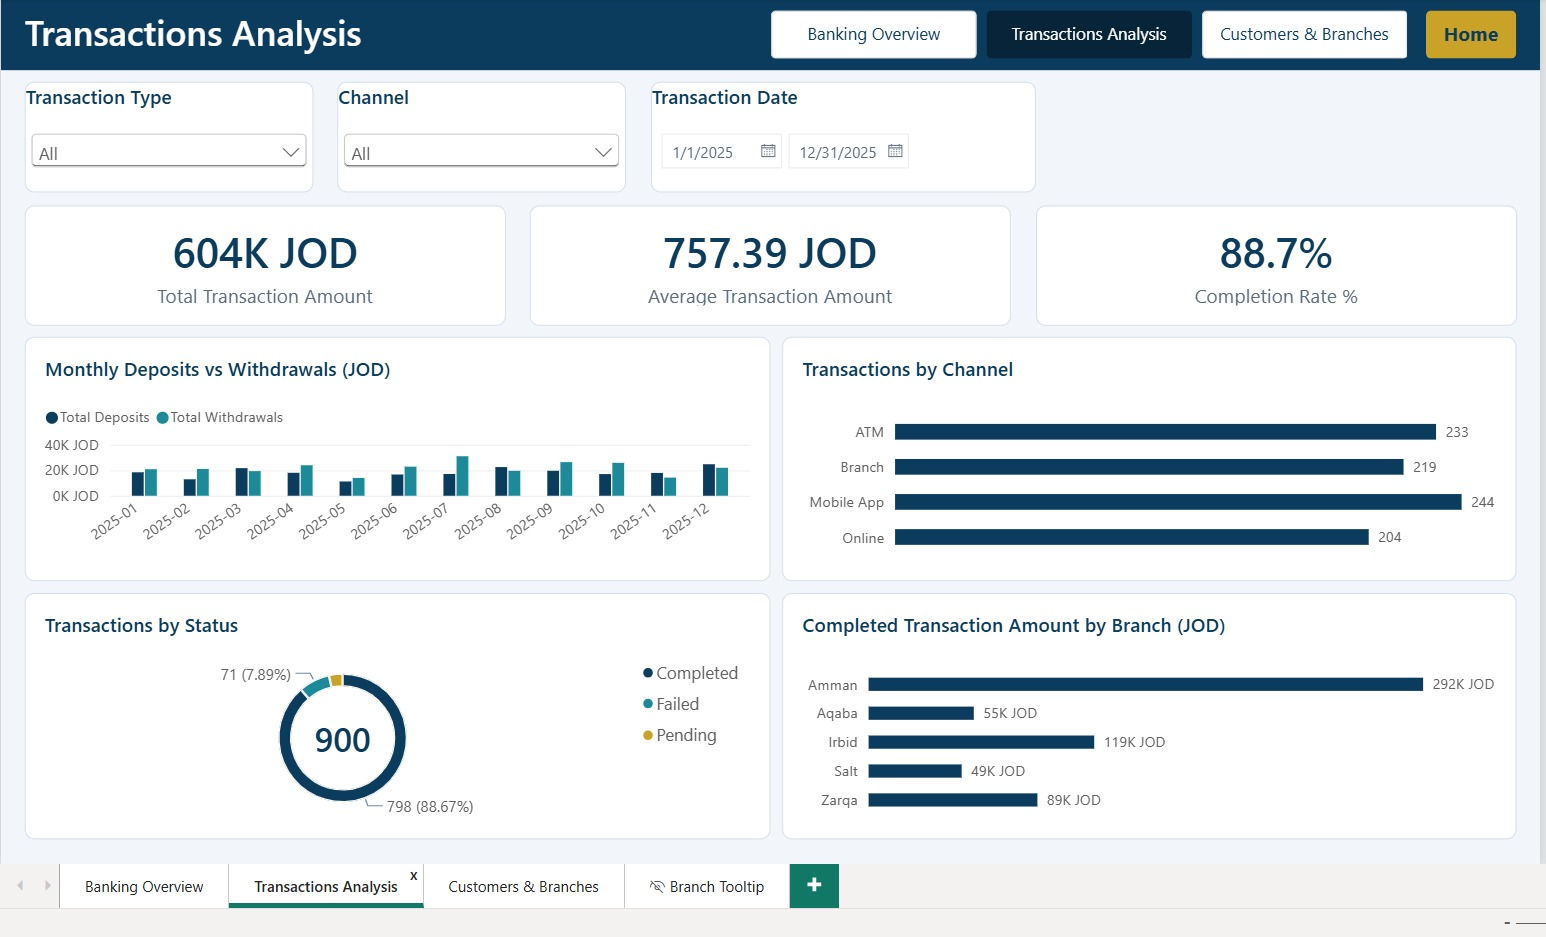

The dashboard page shown, as its layout file describes it:
{"tool":"powerbi","page":{"name":"Transactions Analysis","canvas":[1280,720],"ordinal":1},"visuals":[{"type":"textbox","box":[0,0,1280,60],"z":0},{"type":"textbox","box":[20,8,610,44],"z":1},{"type":"pageNavigator","box":[640,10,530,40],"z":2},{"type":"actionButton","box":[1185,10,75,40],"z":3},{"type":"slicer","title":"Transaction Type","fields":{"Values":["Transactions.TransactionType"]},"box":[20,70,240,92],"z":4},{"type":"slicer","title":"Channel","fields":{"Values":["Transactions.Channel"]},"box":[280,70,240,92],"z":5},{"type":"slicer","title":"Transaction Date","fields":{"Values":["Transactions.TransactionDate"]},"box":[540,70,320,92],"z":6},{"type":"card","fields":{"Values":["Transactions.Total Transaction Amount"]},"box":[20,172,400,100],"z":7},{"type":"card","fields":{"Values":["Transactions.Average Transaction Amount"]},"box":[440,172,400,100],"z":8},{"type":"card","fields":{"Values":["Transactions.Completion Rate %"]},"box":[860,172,400,100],"z":9},{"type":"clusteredColumnChart","title":"Monthly Deposits vs Withdrawals (JOD)","fields":{"Category":["Transactions.Transaction Month"],"Y":["Transactions.Total Deposits","Transactions.Total Withdrawals"]},"box":[20,282,620,203],"z":10},{"type":"barChart","title":"Transactions by Channel","fields":{"Category":["Transactions.Channel"],"Y":["Transactions.Total Transactions"]},"box":[650,282,610,203],"z":11},{"type":"donutChart","title":"Transactions by Status","fields":{"Category":["Transactions.Status"],"Y":["Transactions.Total Transactions"]},"box":[20,495,620,205],"z":12},{"type":"barChart","title":"Completed Transaction Amount by Branch (JOD)","fields":{"Category":["Transactions.Branch"],"Y":["Transactions.Total Transaction Amount"]},"box":[650,495,610,205],"z":13}]}

Visuals, with their boxes on the page's 1280x720 design canvas (x1, y1, x2, y2). These are canvas units, not pixel positions in the 1546x937 screenshot, which may show the page scaled, cropped or inside an application window:
textbox: <region>0, 0, 1280, 60</region>
textbox: <region>20, 8, 630, 52</region>
pageNavigator: <region>640, 10, 1170, 50</region>
actionButton: <region>1185, 10, 1260, 50</region>
"Transaction Type" slicer: <region>20, 70, 260, 162</region>
"Channel" slicer: <region>280, 70, 520, 162</region>
"Transaction Date" slicer: <region>540, 70, 860, 162</region>
card - Transactions.Total Transaction Amount: <region>20, 172, 420, 272</region>
card - Transactions.Average Transaction Amount: <region>440, 172, 840, 272</region>
card - Transactions.Completion Rate %: <region>860, 172, 1260, 272</region>
"Monthly Deposits vs Withdrawals (JOD)" clusteredColumnChart: <region>20, 282, 640, 485</region>
"Transactions by Channel" barChart: <region>650, 282, 1260, 485</region>
"Transactions by Status" donutChart: <region>20, 495, 640, 700</region>
"Completed Transaction Amount by Branch (JOD)" barChart: <region>650, 495, 1260, 700</region>
